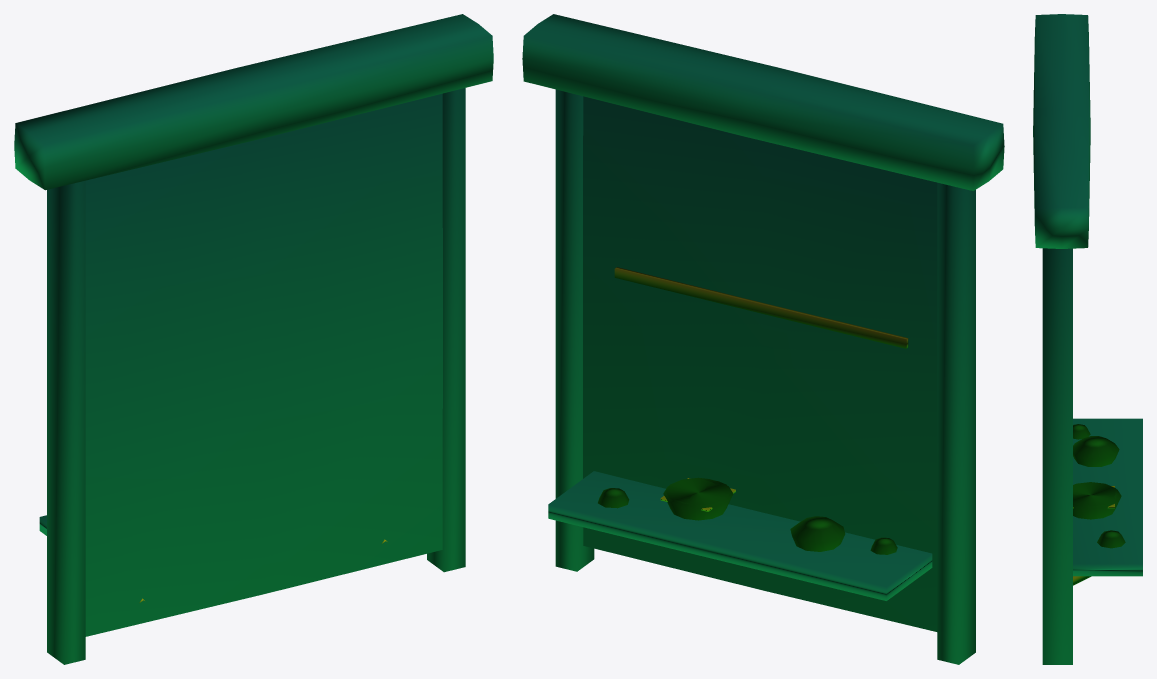
The model's file is deck_shrine.glb.
The picture shows the model from 3 angles, left to right: view 1: azimuth 30°, elevation 25°; view 2: azimuth 150°, elevation 25°; view 3: azimuth 270°, elevation 25°; orthographic projection. The views are drawn at different scales.
Visible parts, largest first — view 1: deck_shrine; view 2: deck_shrine; view 3: deck_shrine.
Part boxes in pixels (x1,y1,x2,y2): deck_shrine: [14, 14, 493, 664]; deck_shrine: [522, 14, 1004, 664]; deck_shrine: [1033, 14, 1142, 664].
Size of what is drawn, in the model's own units: 1.12 by 1.26 by 0.2666.
